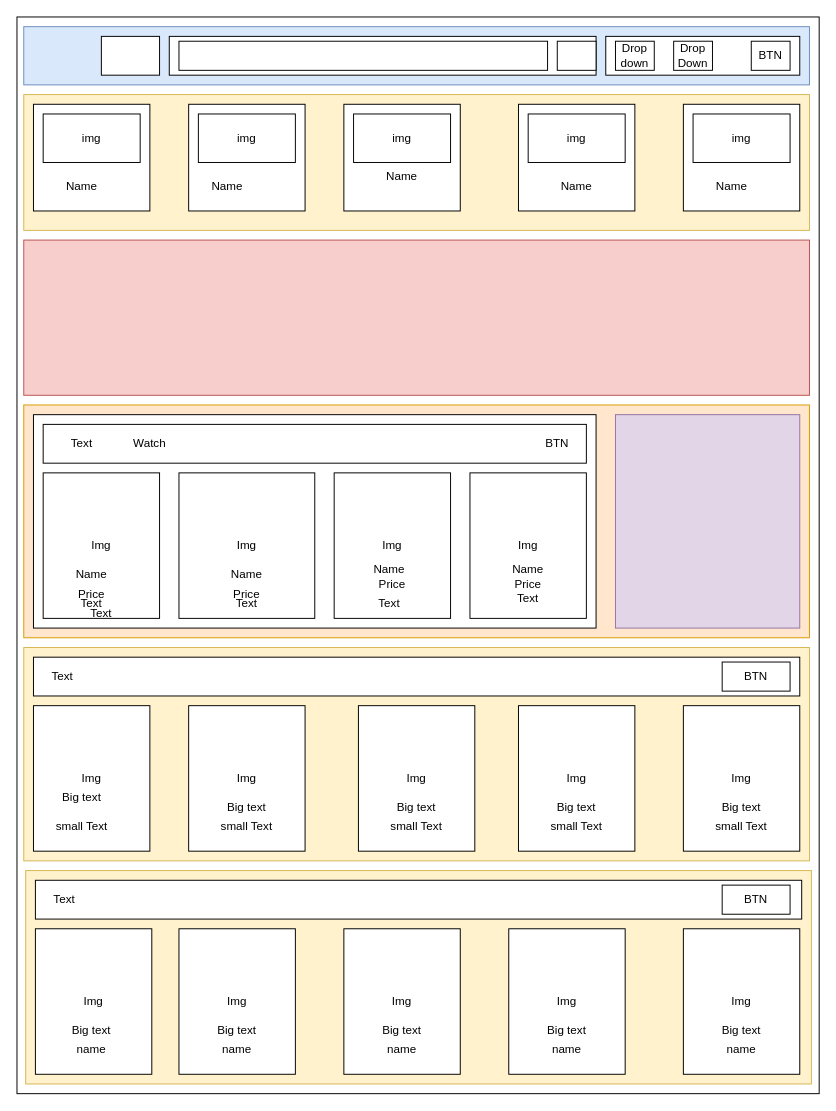
Image size: 836x1111. Some labels were removed from this diagram. The shapes that lost their labels are listed below. From the top down, each one's centre as x and y in pixels, then its label:
At point 130,55: "Logo".
At point 363,55: "Search bar".
At point 416,317: "Images /Slider".
At point 707,521: "Big Img/ SVG".
